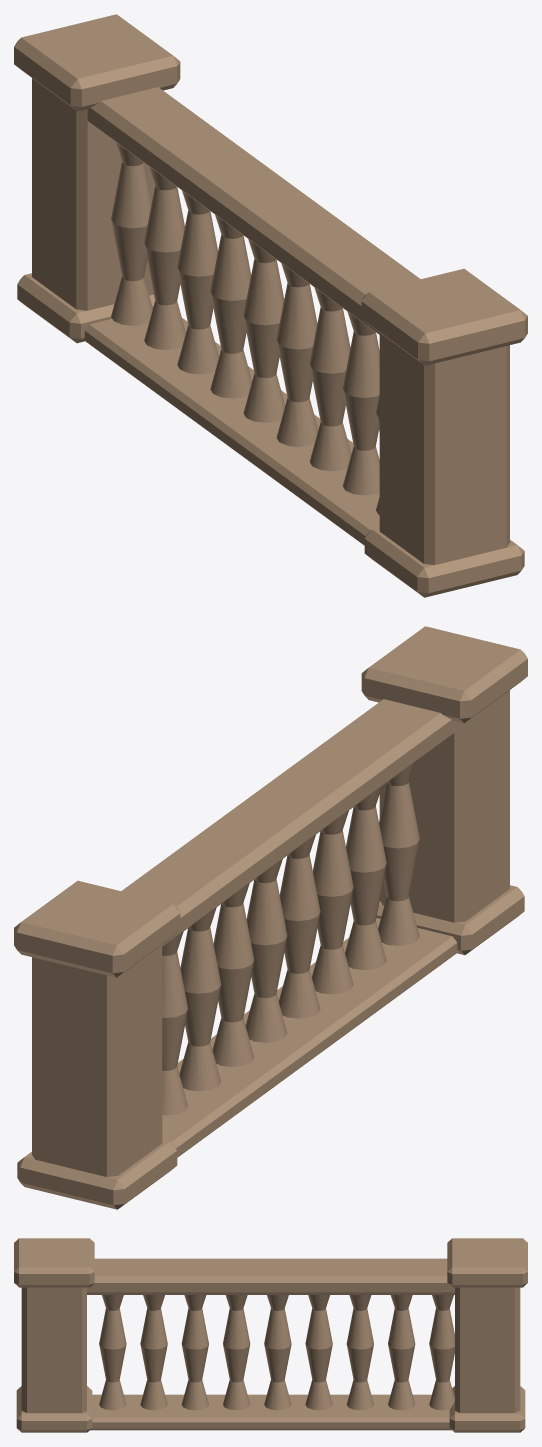
Rendered from SM_Menu_StoneBalustrade.fbx.
3 views of the same model, one above another, from view 1: azimuth 30°, elevation 25°; view 2: azimuth 150°, elevation 25°; view 3: azimuth 270°, elevation 25° (orthographic). The views are drawn at different scales.
Parts seen in each view (by area): view 1: SM_Menu_StoneBalustrade; view 2: SM_Menu_StoneBalustrade; view 3: SM_Menu_StoneBalustrade.
Part boxes in pixels (left/top/right/bottom): SM_Menu_StoneBalustrade: left=14, top=14, right=527, bottom=597; SM_Menu_StoneBalustrade: left=14, top=626, right=527, bottom=1209; SM_Menu_StoneBalustrade: left=14, top=1238, right=527, bottom=1432.
Bounding box in the file's own units: 46 × 299 × 106.
